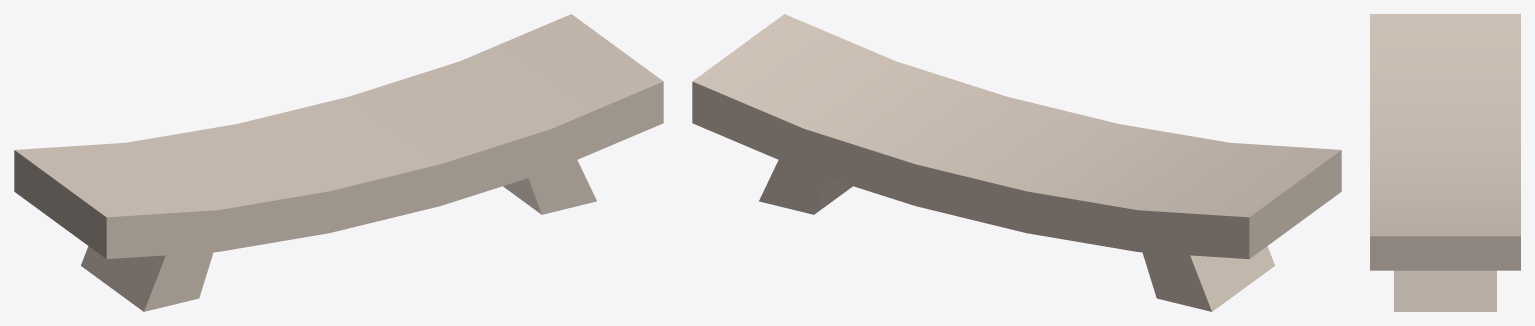
File: tray.gltf.glb
The picture shows the model from 3 angles, left to right: view 1: azimuth 30°, elevation 25°; view 2: azimuth 150°, elevation 25°; view 3: azimuth 270°, elevation 25°; orthographic projection. The views are drawn at different scales.
Visible parts, largest first — view 1: tray; view 2: tray; view 3: tray.
Boxes of the visible parts, <box> form: tray: <box>14,14,663,311</box>; tray: <box>692,14,1341,311</box>; tray: <box>1370,14,1520,311</box>.
Size of the model in its own units: 1.26 by 0.2539 by 0.3596.
